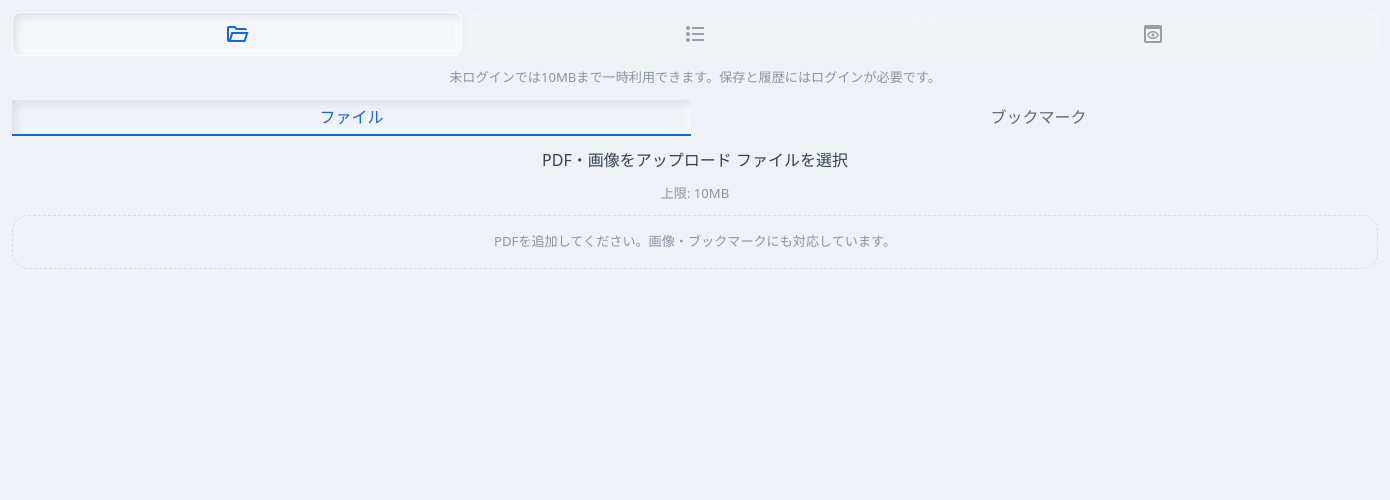
TextbookPanel › 危険なschemeのブックマークを追加しない
Click the tab "ブックマーク": (1038,118) [699, 100, 1378, 136]
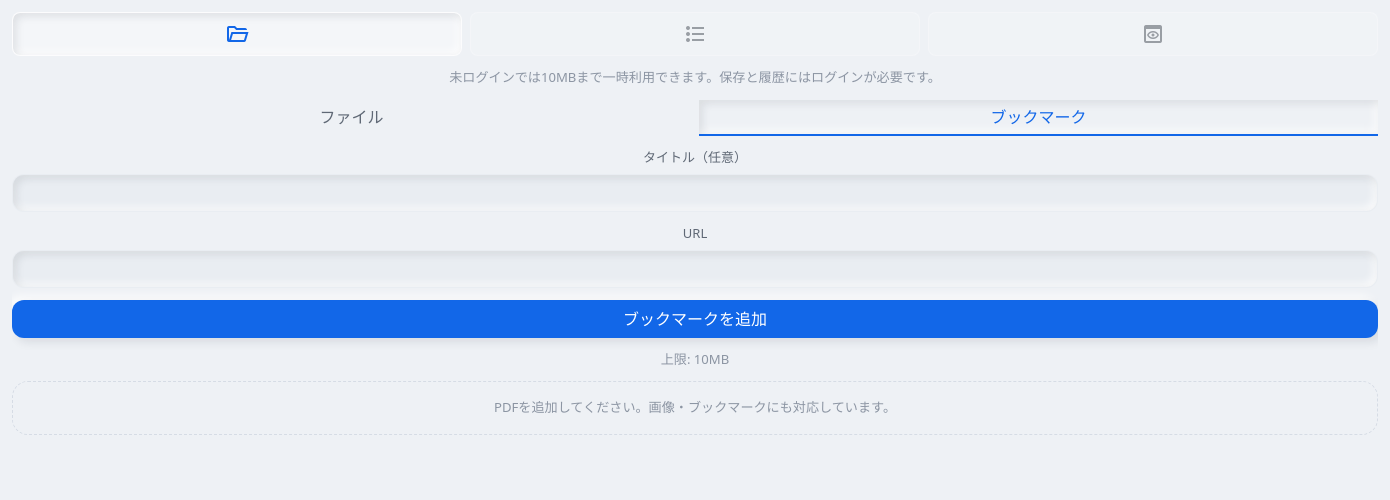
In the field labelled "URL": (695,269) [12, 250, 1378, 288], type "javascript:alert(1)"
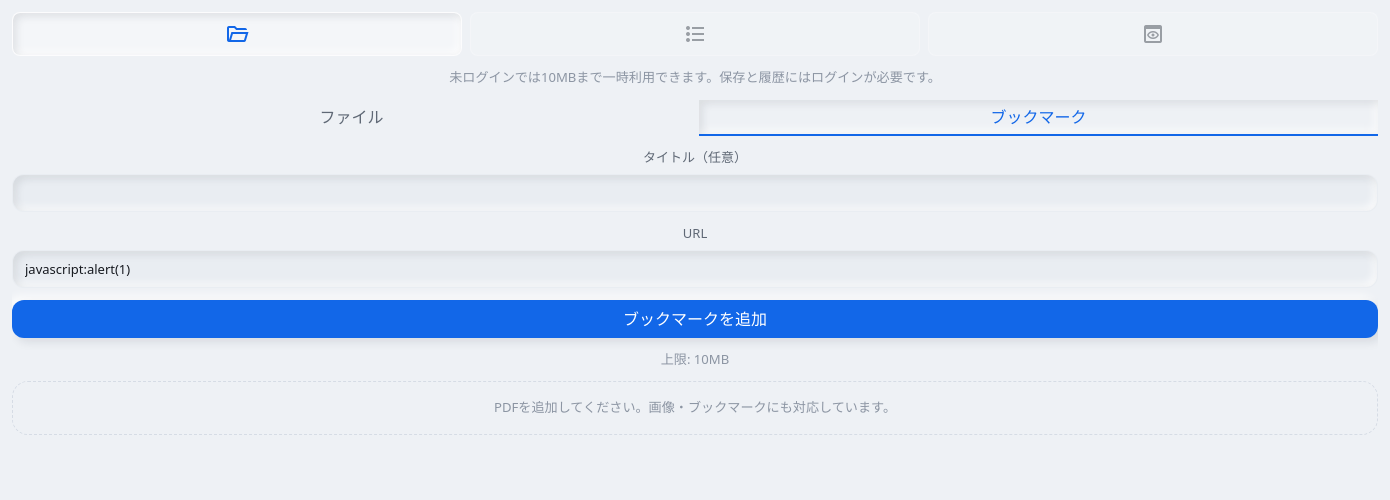
Submit the form, box [12, 148, 1378, 338]
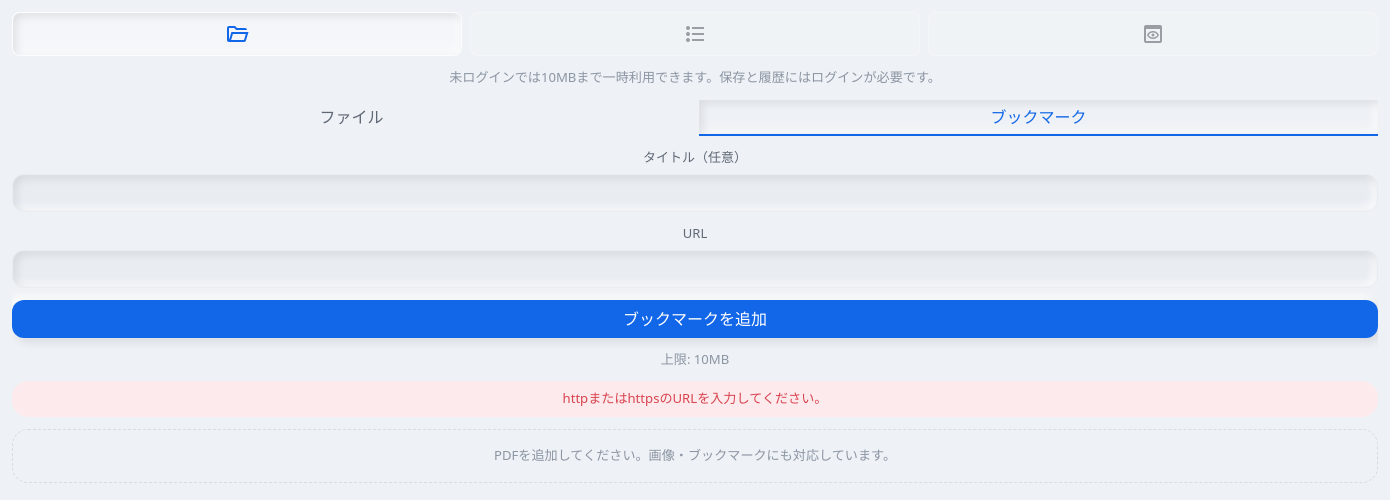
Now the text "httpまたはhttpsのURL" is shown, box [562, 389, 827, 407]
